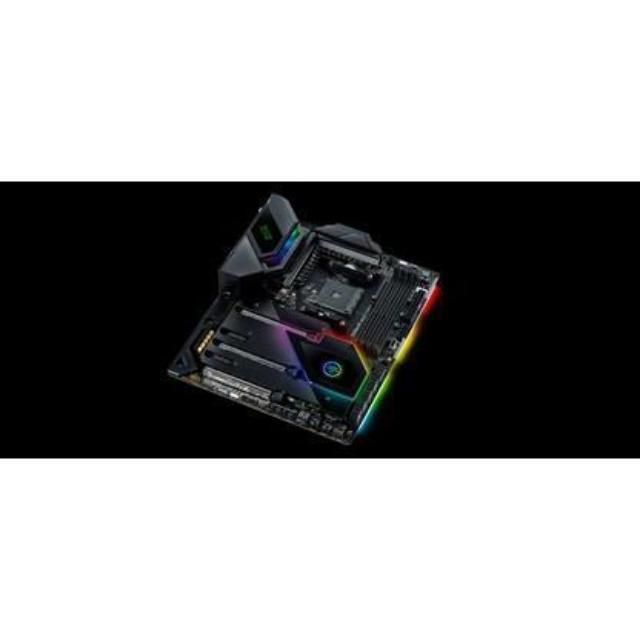Mainboard: (166, 190, 440, 456)
